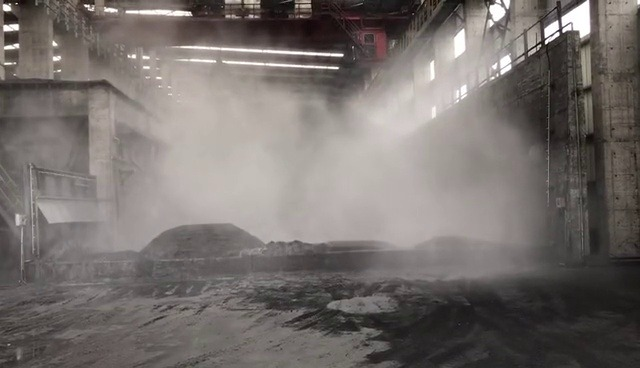dust: (58, 22, 553, 273)
